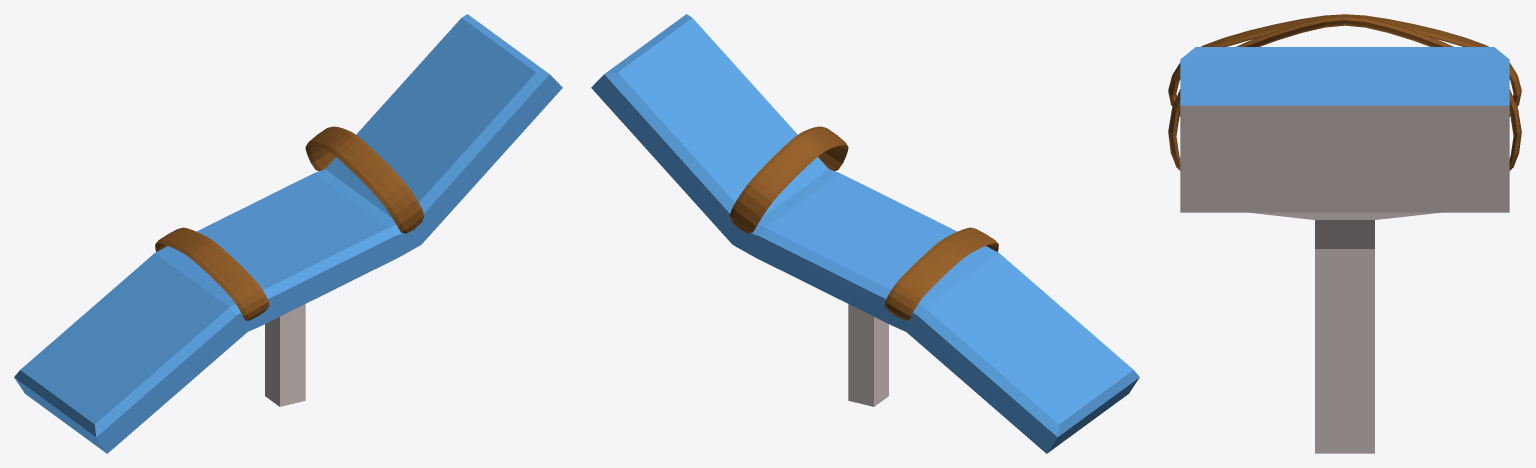
File: chair.glb
3 views of the same model, side by side, from view 1: azimuth 30°, elevation 25°; view 2: azimuth 150°, elevation 25°; view 3: azimuth 270°, elevation 25° (orthographic). The views are drawn at different scales.
Visible parts, largest first — view 1: chair; view 2: chair; view 3: chair.
Part boxes in pixels (x1,y1,x2,y2): chair: (14, 14, 562, 453); chair: (591, 14, 1139, 453); chair: (1168, 14, 1521, 453).
Size of the model in its own units: 3.9 by 2.41 by 1.28.
